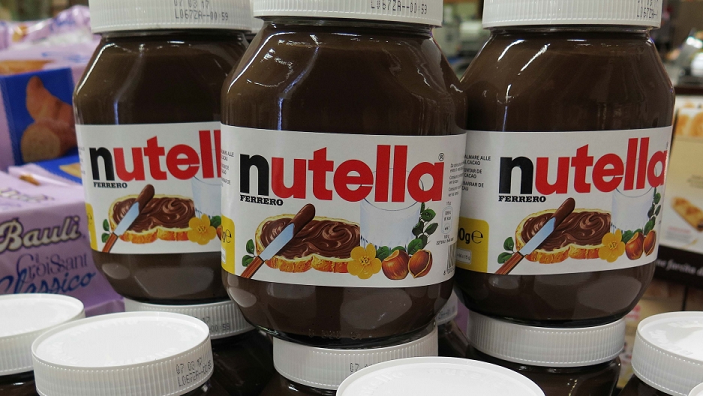nutella: (221, 1, 467, 348), (455, 1, 676, 324), (71, 1, 254, 305)
